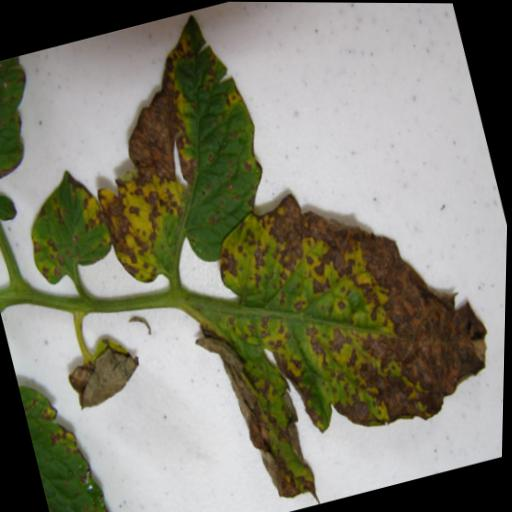Septoria: (162, 151, 509, 512), (53, 0, 292, 301), (9, 341, 128, 512), (13, 159, 127, 294), (0, 54, 67, 236)
